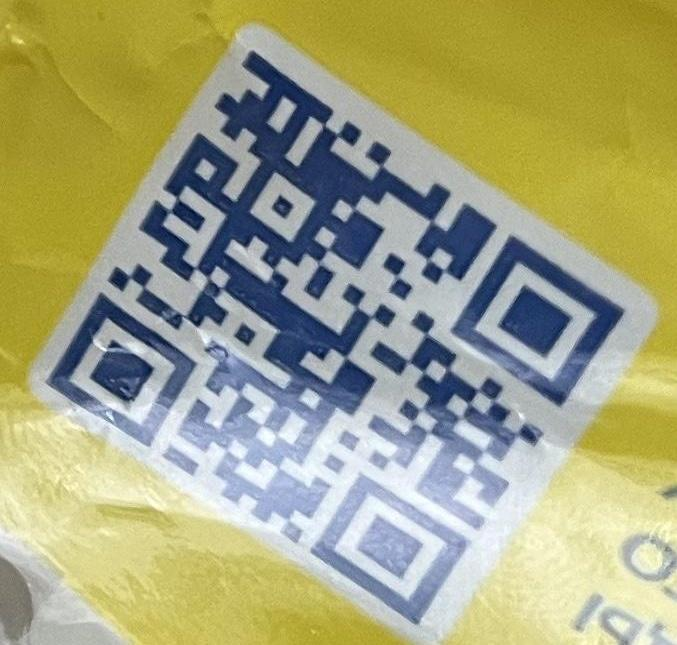qrcode: (47, 50, 626, 626)
